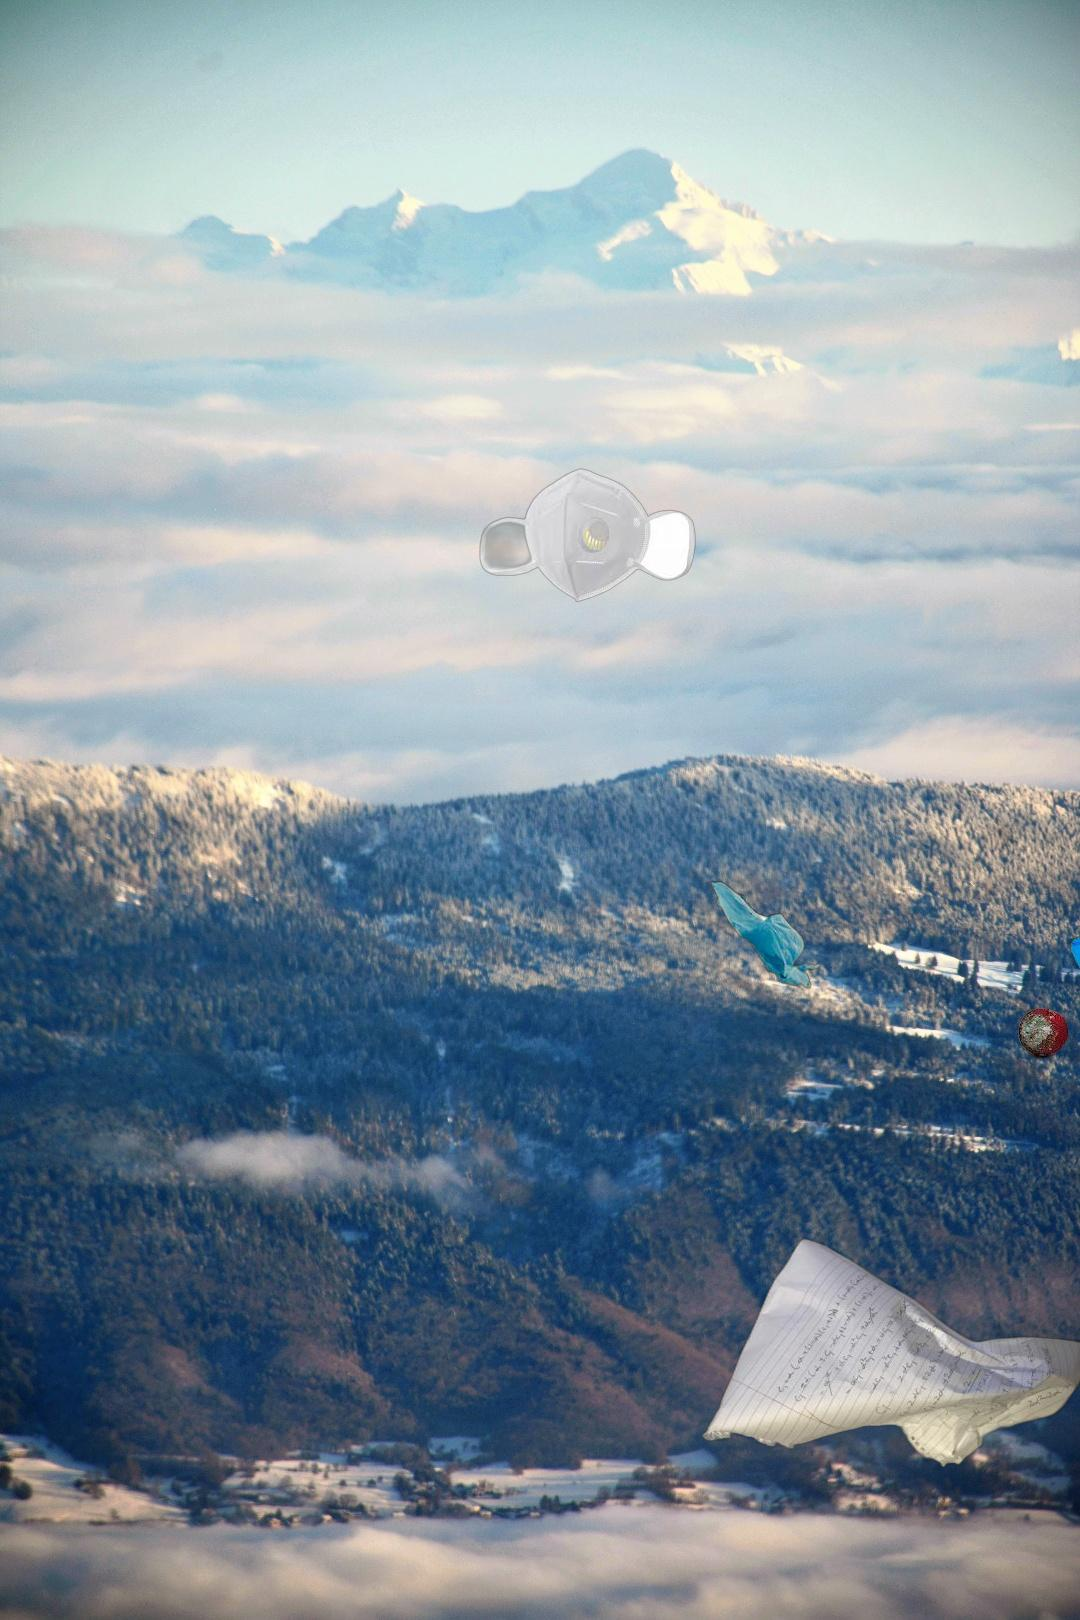biological: (1035, 1239, 1080, 1422), (1015, 1005, 1080, 1069)
paper: (698, 1235, 1080, 1471)
plastic-bag: (540, 879, 824, 1145), (1067, 896, 1080, 1119)
plastic-bottles: (1056, 1269, 1080, 1620)
trash: (477, 466, 698, 604)
